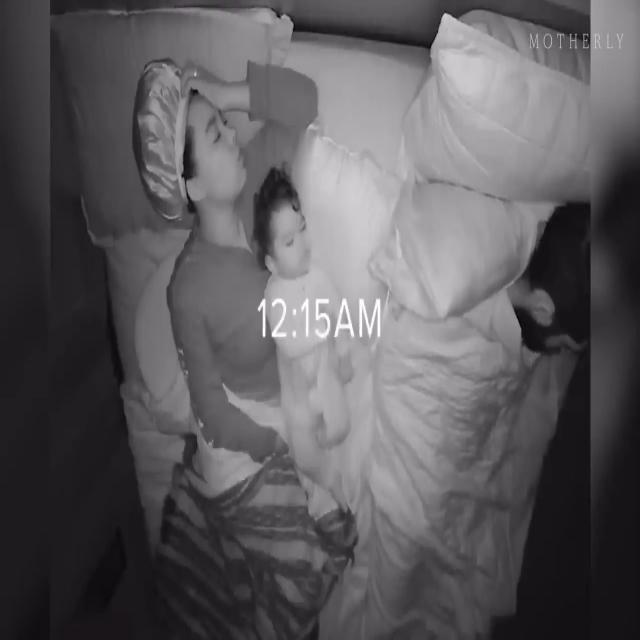baby: (255, 172, 357, 507)
